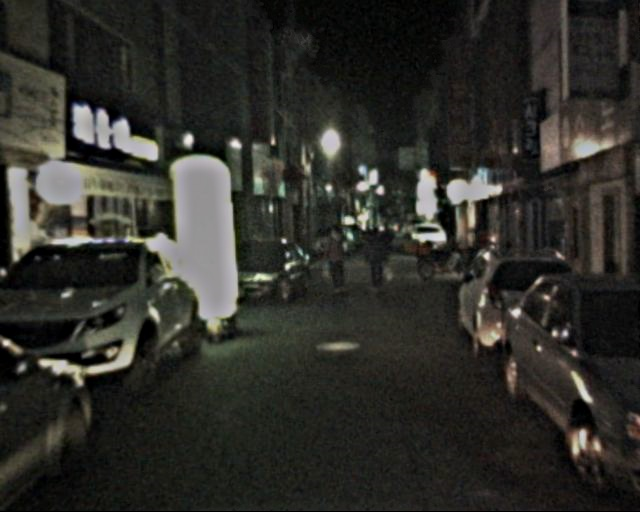person: (358, 221, 387, 292), (320, 221, 349, 291)
